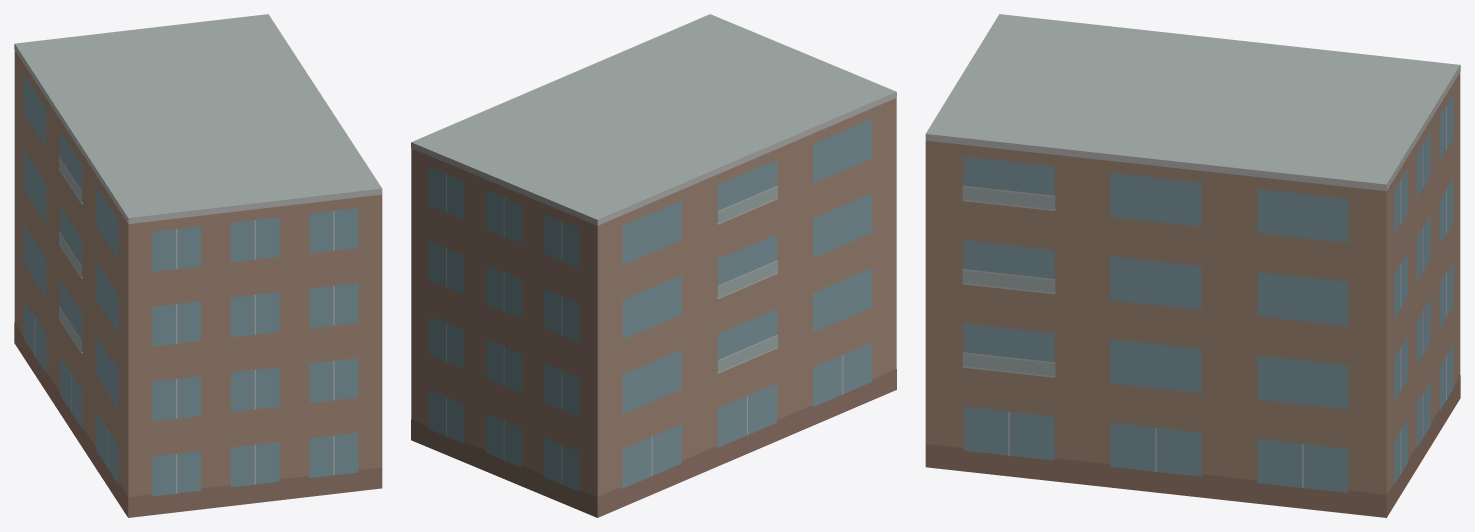
The model's file is residential-1af3a9d1-c3bd-43f5-8421-cbe3ead2d01a.glb.
3 views of the same model, side by side, from view 1: azimuth 30°, elevation 25°; view 2: azimuth 150°, elevation 25°; view 3: azimuth 270°, elevation 25° (orthographic). The views are drawn at different scales.
Parts seen in each view (by area): view 1: residential-1af3a9d1-c3bd-43f5-8421-cbe3ead2d01a.tmp; view 2: residential-1af3a9d1-c3bd-43f5-8421-cbe3ead2d01a.tmp; view 3: residential-1af3a9d1-c3bd-43f5-8421-cbe3ead2d01a.tmp.
Boxes of the visible parts, left/top/right/bottom form: residential-1af3a9d1-c3bd-43f5-8421-cbe3ead2d01a.tmp: left=14, top=14, right=382, bottom=517; residential-1af3a9d1-c3bd-43f5-8421-cbe3ead2d01a.tmp: left=411, top=14, right=896, bottom=517; residential-1af3a9d1-c3bd-43f5-8421-cbe3ead2d01a.tmp: left=925, top=14, right=1460, bottom=517.
Bounding box in the file's own units: 13.4 × 12.2 × 17.76.
